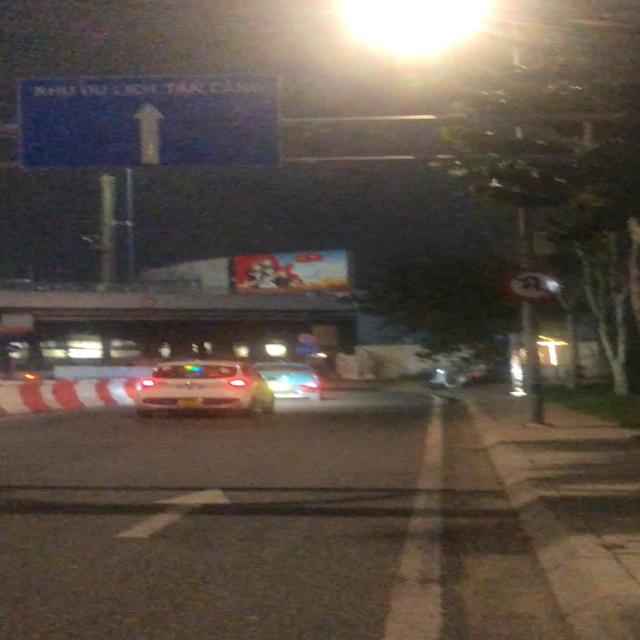Bien bao cam quay dau xe: (499, 265, 562, 301)
